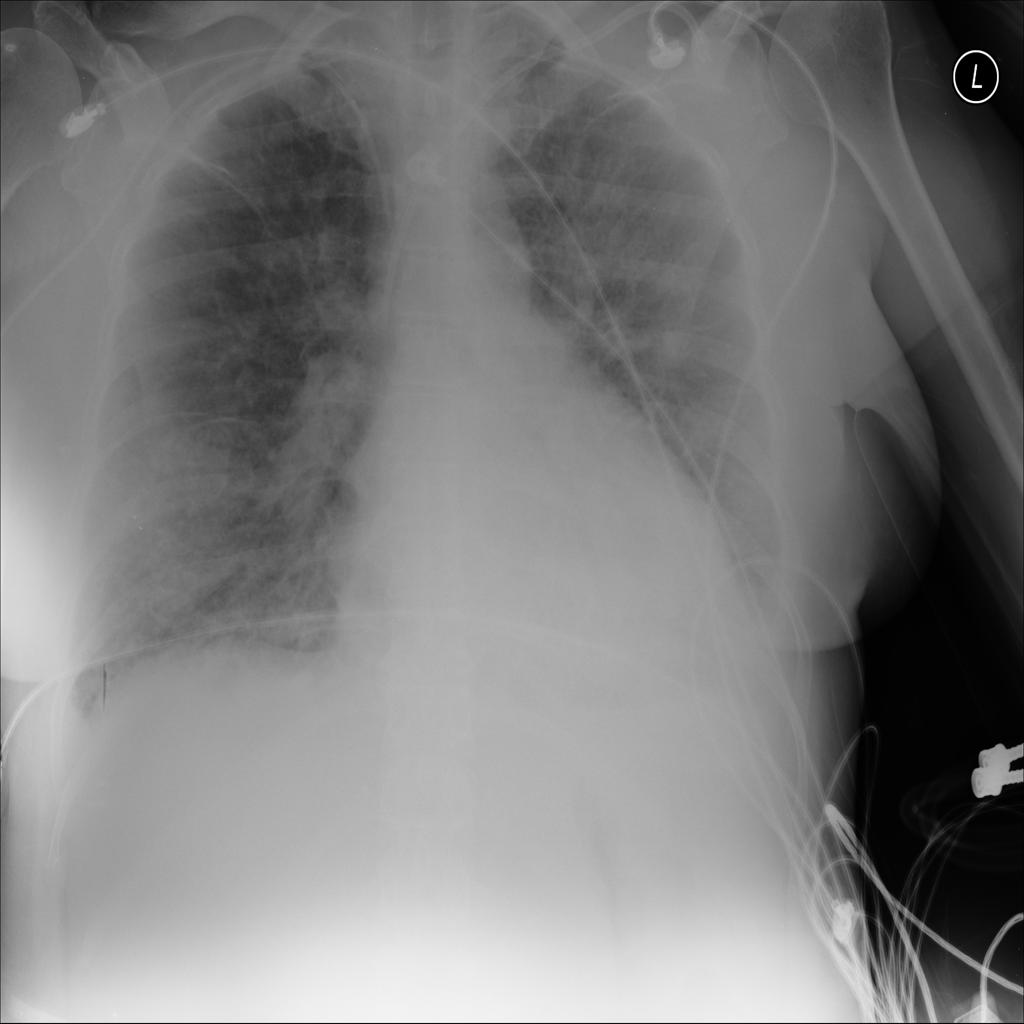Cardiomegaly: (326, 366, 757, 748)
